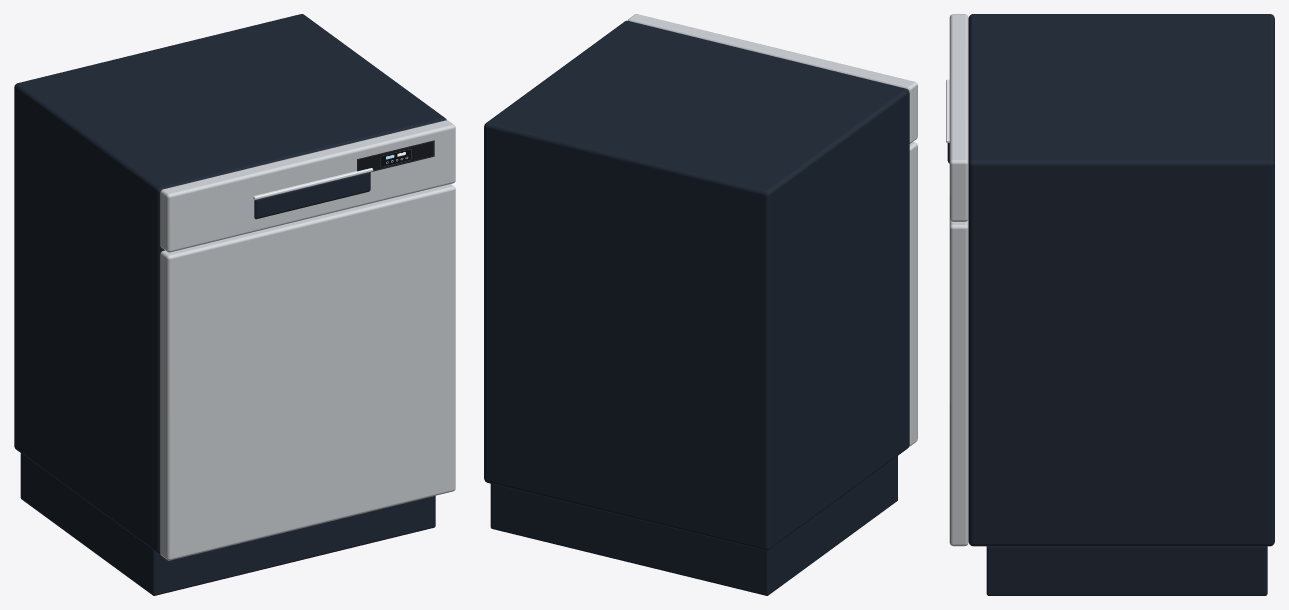
Rendered from obj_dishwasher_600.glb.
The picture shows the model from 3 angles, left to right: view 1: azimuth 30°, elevation 25°; view 2: azimuth 150°, elevation 25°; view 3: azimuth 270°, elevation 25°; orthographic projection. The views are drawn at different scales.
Parts seen in each view (by area): view 1: obj_dishwasher_600; view 2: obj_dishwasher_600; view 3: obj_dishwasher_600.
Part boxes in pixels (left/top/right/bottom): obj_dishwasher_600: left=14, top=14, right=455, bottom=595; obj_dishwasher_600: left=484, top=14, right=917, bottom=595; obj_dishwasher_600: left=946, top=14, right=1274, bottom=595.
Bounding box in the file's own units: 0.598 × 0.815 × 0.5561.
4 materials, 1 textured.
